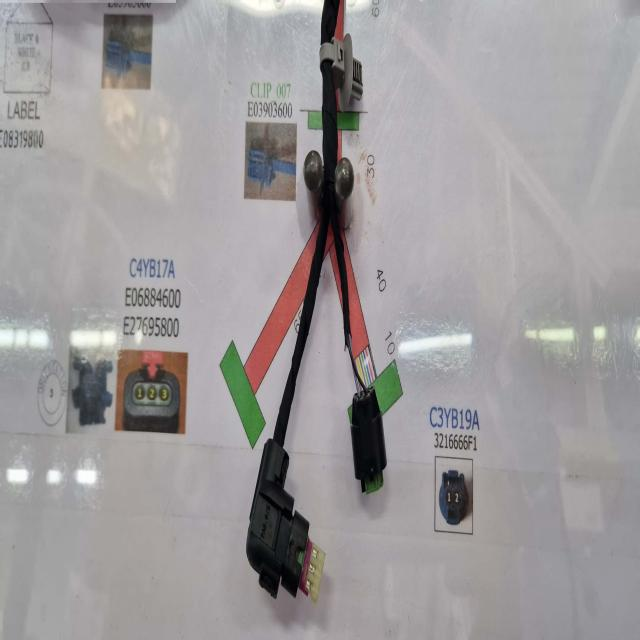Clip: (318, 33, 362, 109)
Connector: (246, 441, 325, 605), (350, 389, 387, 496)
Gape: (343, 336, 370, 401)
MHEV_N11_Cable: (273, 56, 351, 444), (320, 0, 339, 57)
